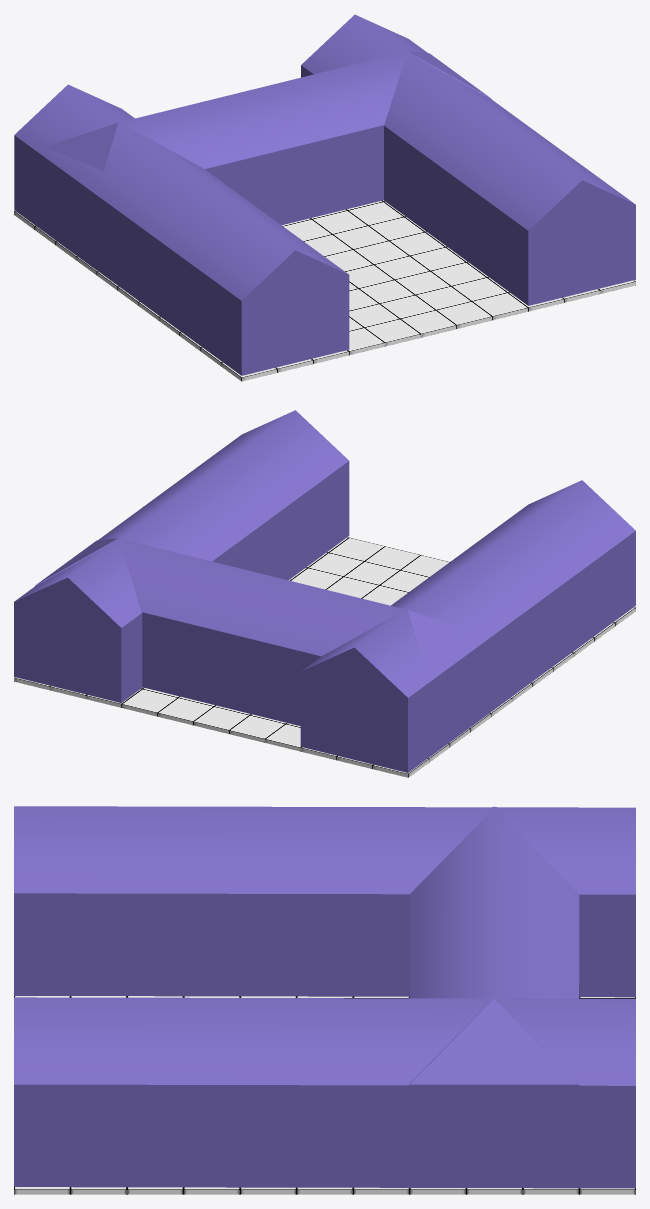
File: XG_Inn.glb
3 views of the same model, one above another, from view 1: azimuth 30°, elevation 25°; view 2: azimuth 150°, elevation 25°; view 3: azimuth 270°, elevation 25° (orthographic). The views are drawn at different scales.
Visible parts, largest first — view 1: building_9m_3m_011, building_9m_3m_010, building_9m_3m_012, 1m_base_block_3217, 1m_base_block_3216, 1m_base_block_3218, 1m_base_block_3219, 1m_base_block_3137, 1m_base_block_3138, 1m_base_block_3161, 1m_base_block_3162, 1m_base_block_3166 (+15 smaller); view 2: building_9m_3m_011, building_9m_3m_010, building_9m_3m_012, 1m_base_block_3129, 1m_base_block_3130, 1m_base_block_3131, 1m_base_block_3132, 1m_base_block_3217, 1m_base_block_3207, 1m_base_block_3208, 1m_base_block_3216, 1m_base_block_3134 (+5 smaller); view 3: building_9m_3m_011, building_9m_3m_010, building_9m_3m_012.
Part boxes in pixels (left/top/right/bottom): building_9m_3m_011: left=14, top=84, right=349, bottom=375; building_9m_3m_010: left=301, top=14, right=635, bottom=305; building_9m_3m_012: left=44, top=51, right=491, bottom=269; 1m_base_block_3217: left=436, top=301, right=492, bottom=328; 1m_base_block_3216: left=472, top=292, right=528, bottom=319; 1m_base_block_3218: left=401, top=310, right=456, bottom=337; 1m_base_block_3219: left=365, top=319, right=420, bottom=346; 1m_base_block_3137: left=395, top=271, right=450, bottom=294; 1m_base_block_3138: left=359, top=280, right=414, bottom=303; 1m_base_block_3161: left=389, top=232, right=445, bottom=255; 1m_base_block_3162: left=353, top=241, right=409, bottom=264; 1m_base_block_3166: left=369, top=217, right=424, bottom=240; building_9m_3m_011: left=300, top=480, right=635, bottom=772; building_9m_3m_010: left=14, top=410, right=349, bottom=702; building_9m_3m_012: left=35, top=538, right=490, bottom=743; 1m_base_block_3129: left=121, top=689, right=177, bottom=716; 1m_base_block_3130: left=157, top=698, right=213, bottom=725; 1m_base_block_3131: left=193, top=706, right=249, bottom=733; 1m_base_block_3132: left=229, top=715, right=285, bottom=742; 1m_base_block_3217: left=365, top=546, right=420, bottom=569; 1m_base_block_3207: left=308, top=553, right=363, bottom=576; 1m_base_block_3208: left=344, top=561, right=399, bottom=585; 1m_base_block_3216: left=329, top=537, right=384, bottom=561; 1m_base_block_3134: left=265, top=724, right=301, bottom=751; building_9m_3m_011: left=14, top=806, right=635, bottom=997; building_9m_3m_010: left=14, top=997, right=635, bottom=1188; building_9m_3m_012: left=409, top=806, right=579, bottom=1187.
Bounding box in the file's own units: 11.01 × 3.15 × 11.
Materials: 2 (1 with a texture image).
